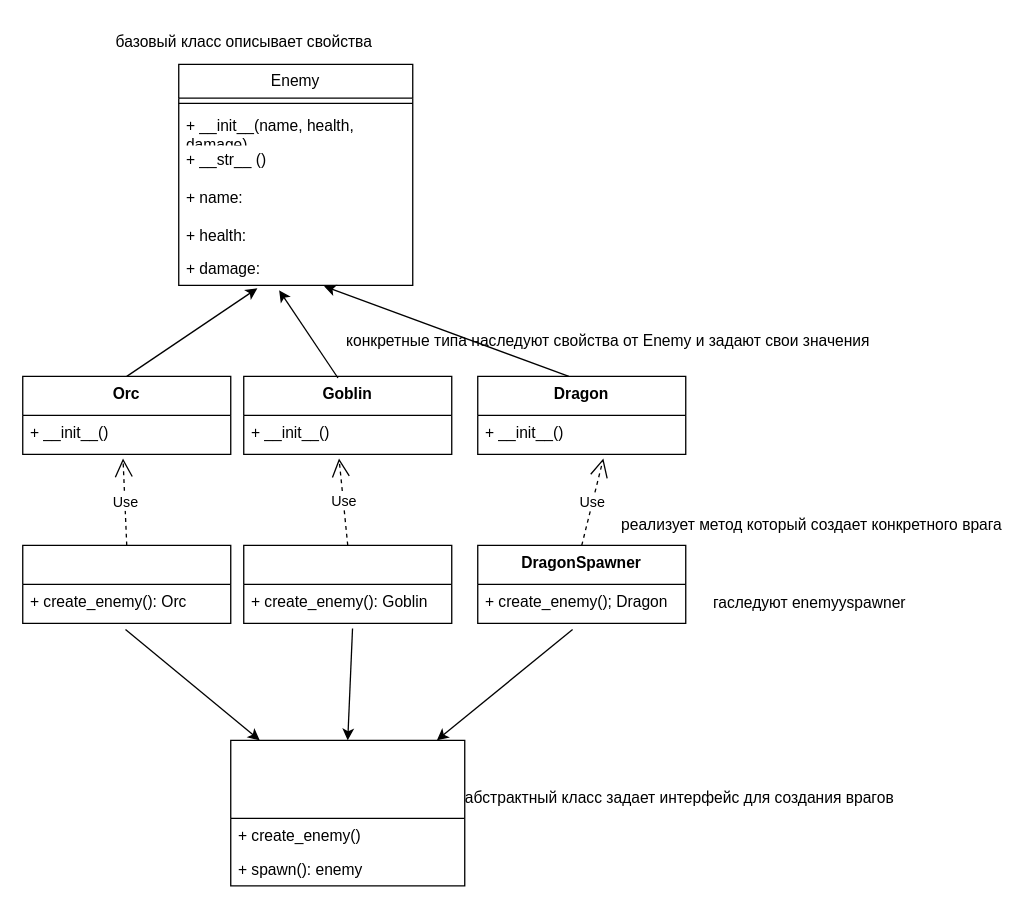
Image size: 1024x911. Some labels were removed from this diagram. Here are the shapes that lost their labels. From the top down, the box of each, then its label:
(21, 544, 231, 623): OrcSpawner
(242, 544, 452, 623): GoblinSpawner
(229, 739, 465, 886): EnemySpawner abstract
